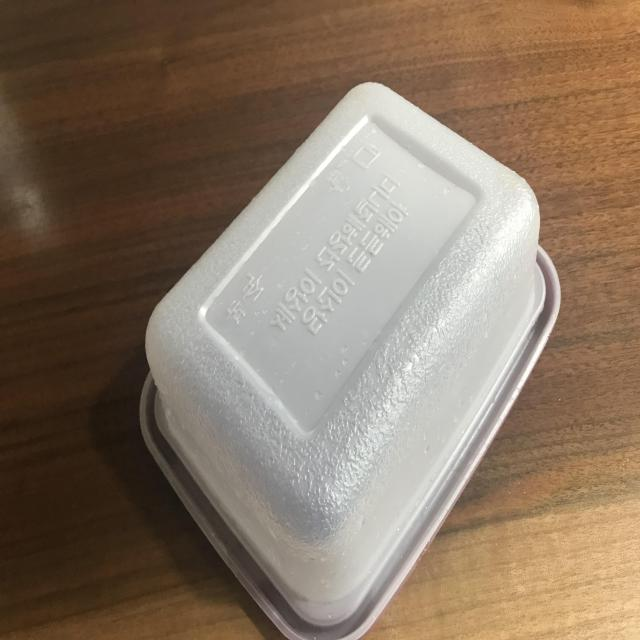bottle: (122, 354, 570, 358)
